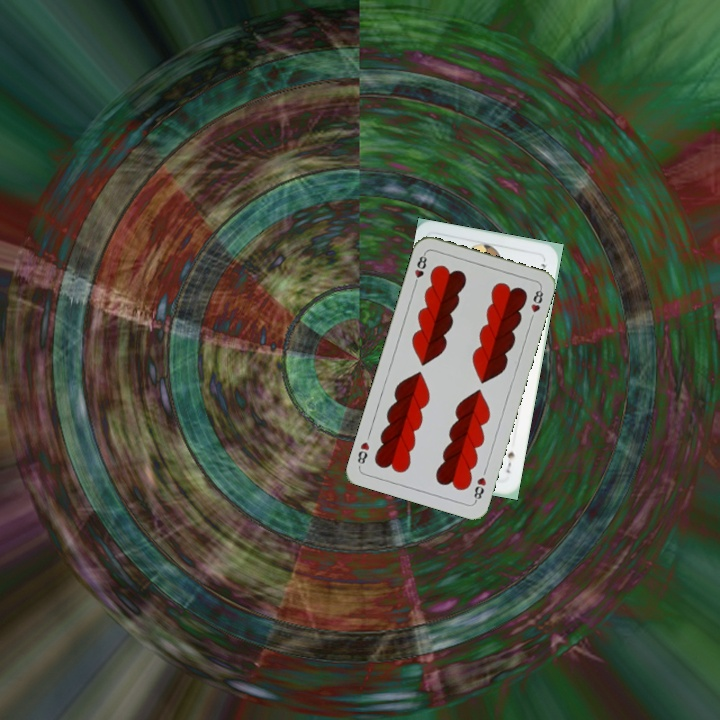H8: (410, 249, 430, 289), (470, 473, 489, 505)
S7: (502, 448, 517, 476)
